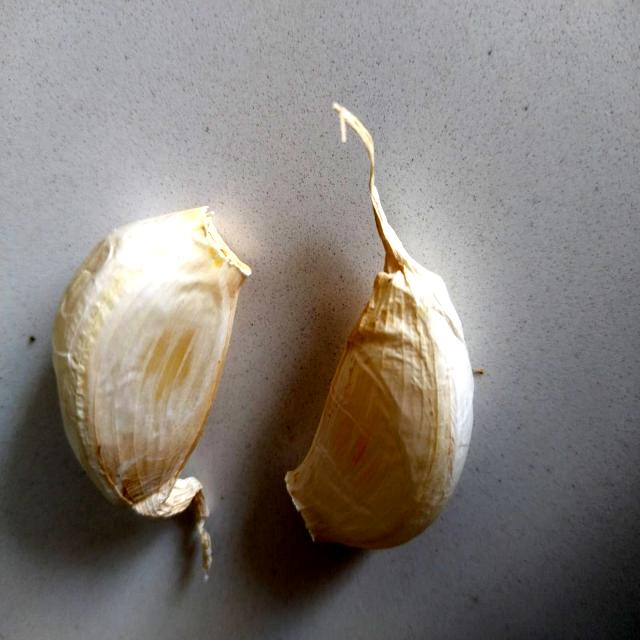garlic: (276, 154, 503, 594), (28, 168, 252, 546)
